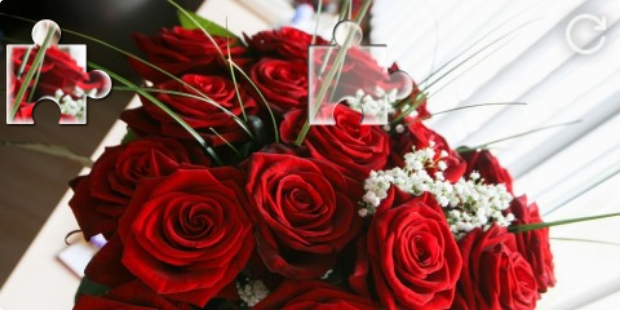target: (309, 21, 413, 125)
